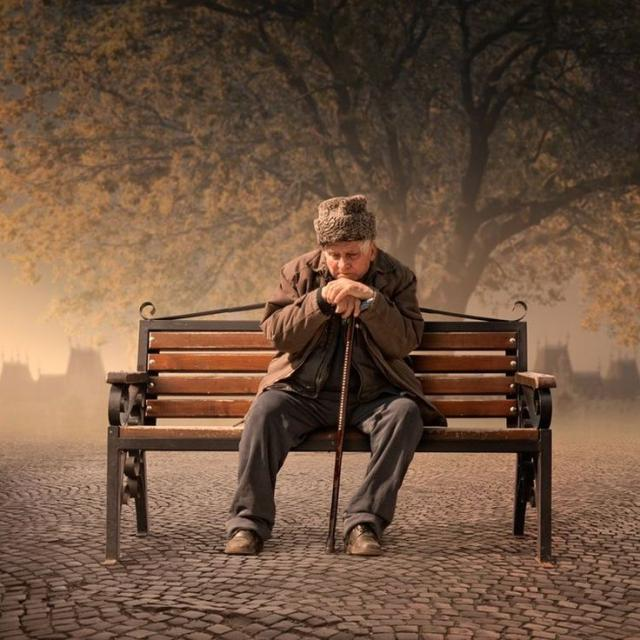idoso sentado: (219, 199, 451, 565)
